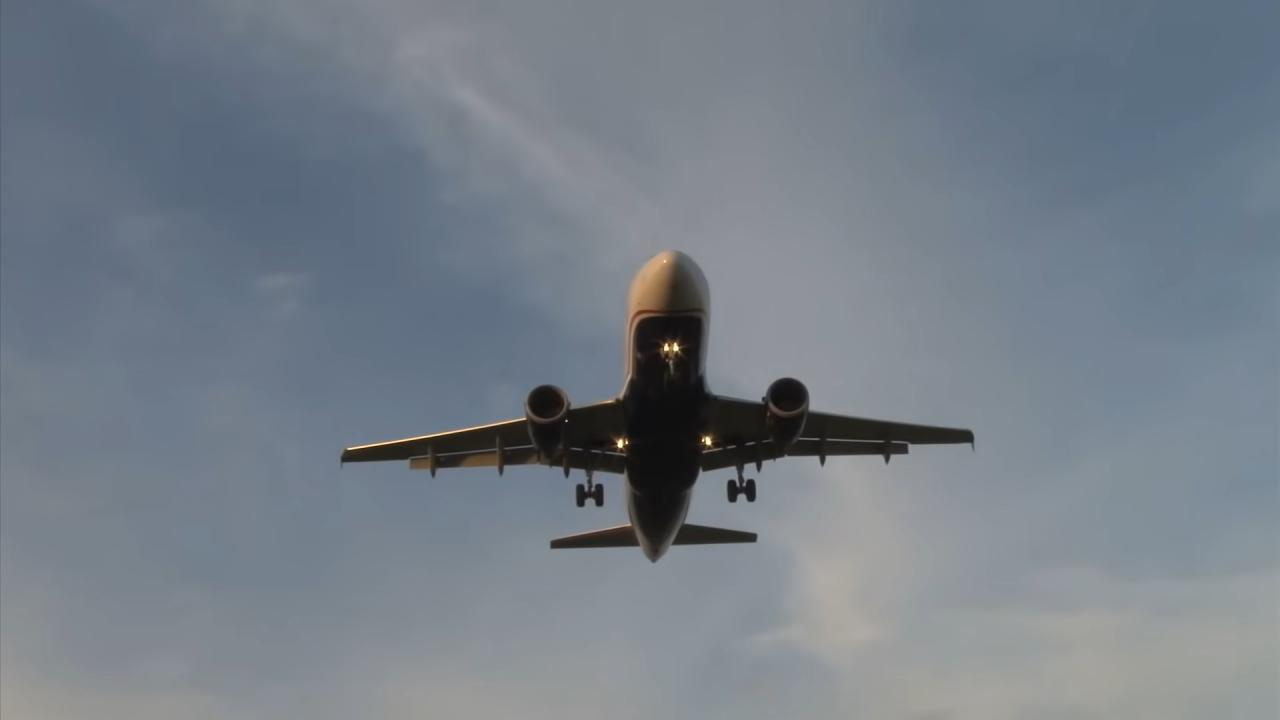Airplane: (324, 230, 981, 576)
